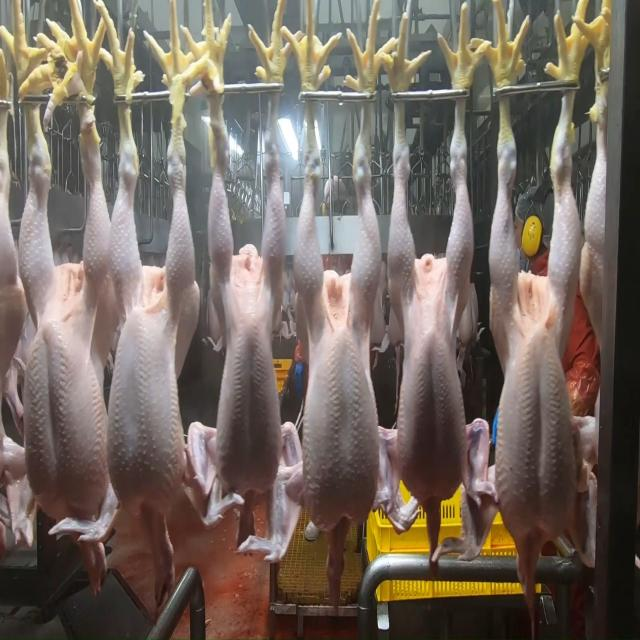chicken: (18, 97, 112, 519), (486, 142, 582, 546), (296, 111, 382, 540), (104, 134, 201, 508), (392, 150, 477, 505), (211, 128, 287, 506), (579, 92, 608, 352)
